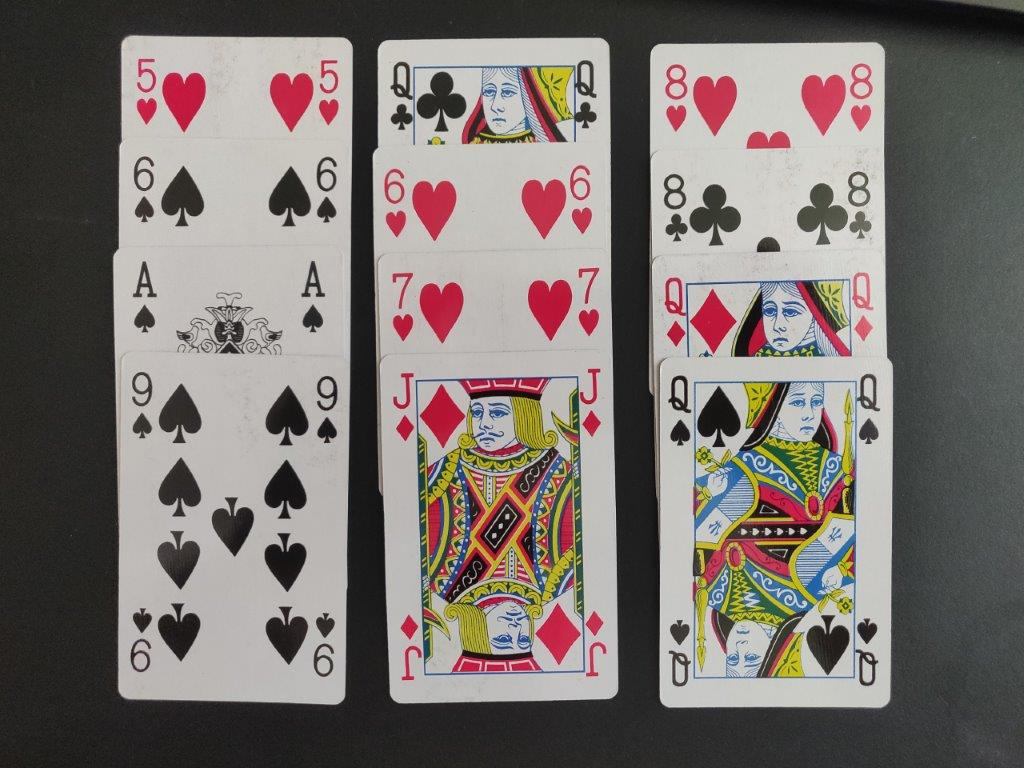5H: (125, 50, 166, 131), (314, 53, 345, 134)
6H: (376, 162, 420, 246), (564, 160, 602, 240)
6S: (124, 148, 165, 232), (311, 150, 343, 231)
7H: (382, 263, 420, 347), (572, 263, 607, 343)
8C: (657, 170, 695, 246), (846, 164, 878, 246)
8H: (655, 57, 694, 138), (846, 57, 879, 139)
9S: (127, 363, 158, 445), (311, 370, 341, 449)
AS: (127, 255, 162, 341), (297, 256, 330, 341)
JD: (385, 366, 422, 449), (573, 364, 611, 444)
QC: (383, 57, 423, 138), (569, 54, 603, 137)
QD: (658, 269, 694, 353), (845, 268, 879, 349)
QS: (665, 368, 697, 450), (855, 368, 885, 449)
